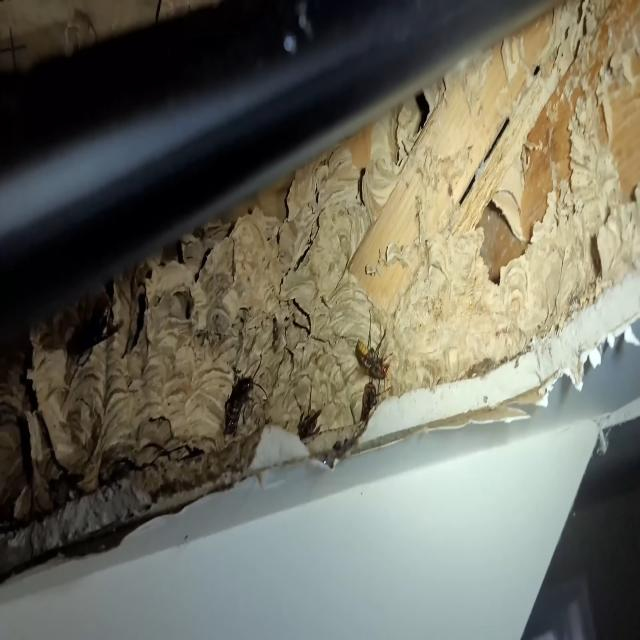Hornets: (224, 354, 267, 436), (356, 310, 392, 383)
